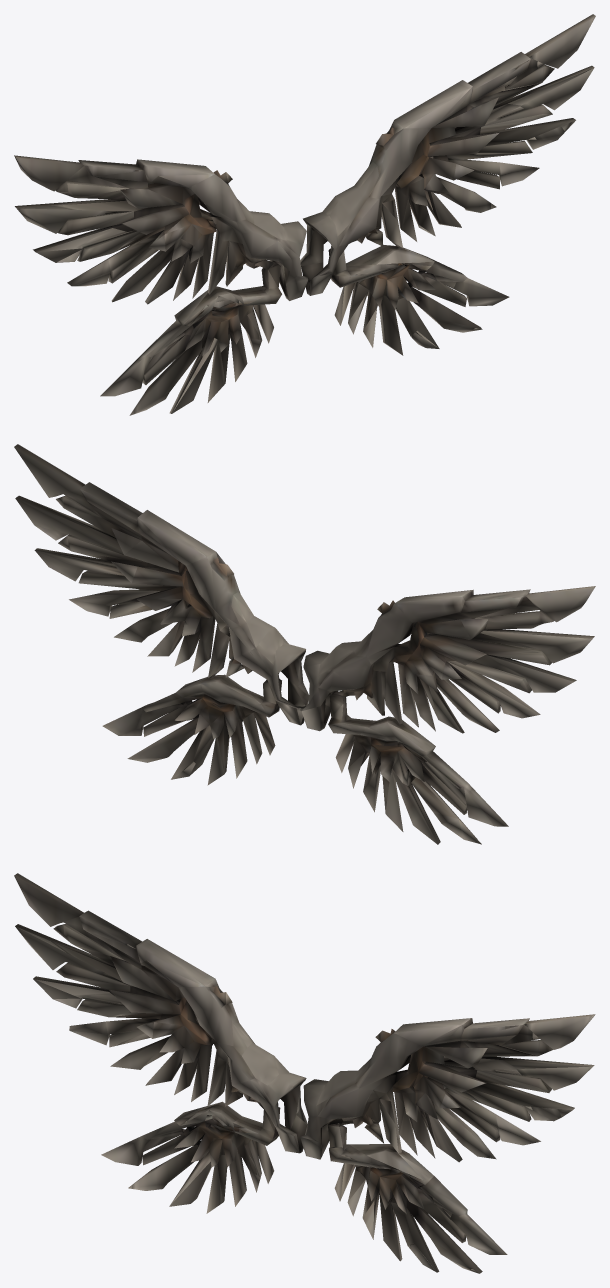
Rendered from 2000钢铁翅膀2.fbx.
3 views of the same model, one above another, from view 1: azimuth 30°, elevation 25°; view 2: azimuth 150°, elevation 25°; view 3: azimuth 330°, elevation 25° (orthographic).
Parts seen in each view (by area): view 1: geometry_0.005; view 2: geometry_0.005; view 3: geometry_0.005.
Boxes of the visible parts, x1=… form: geometry_0.005: x1=14, y1=14, x2=595, y2=415; geometry_0.005: x1=14, y1=444, x2=595, y2=844; geometry_0.005: x1=14, y1=873, x2=595, y2=1273.
Size of the model in its own units: 100 by 48.97 by 8.29.
